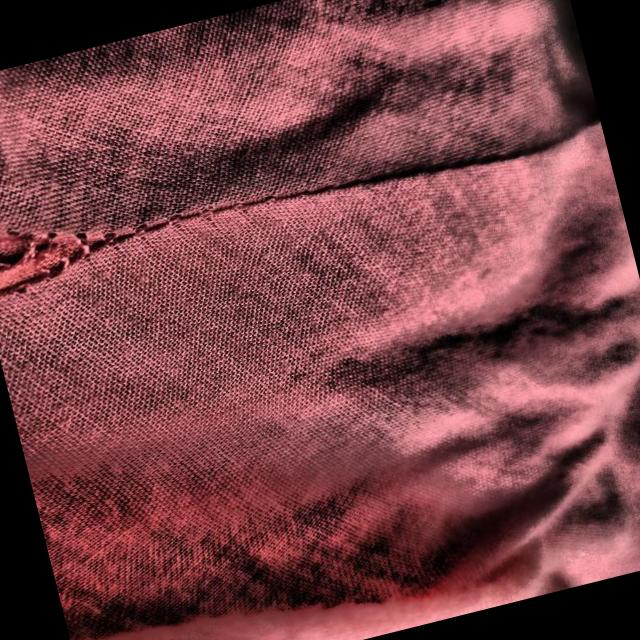gray stitch: (0, 145, 244, 352)
